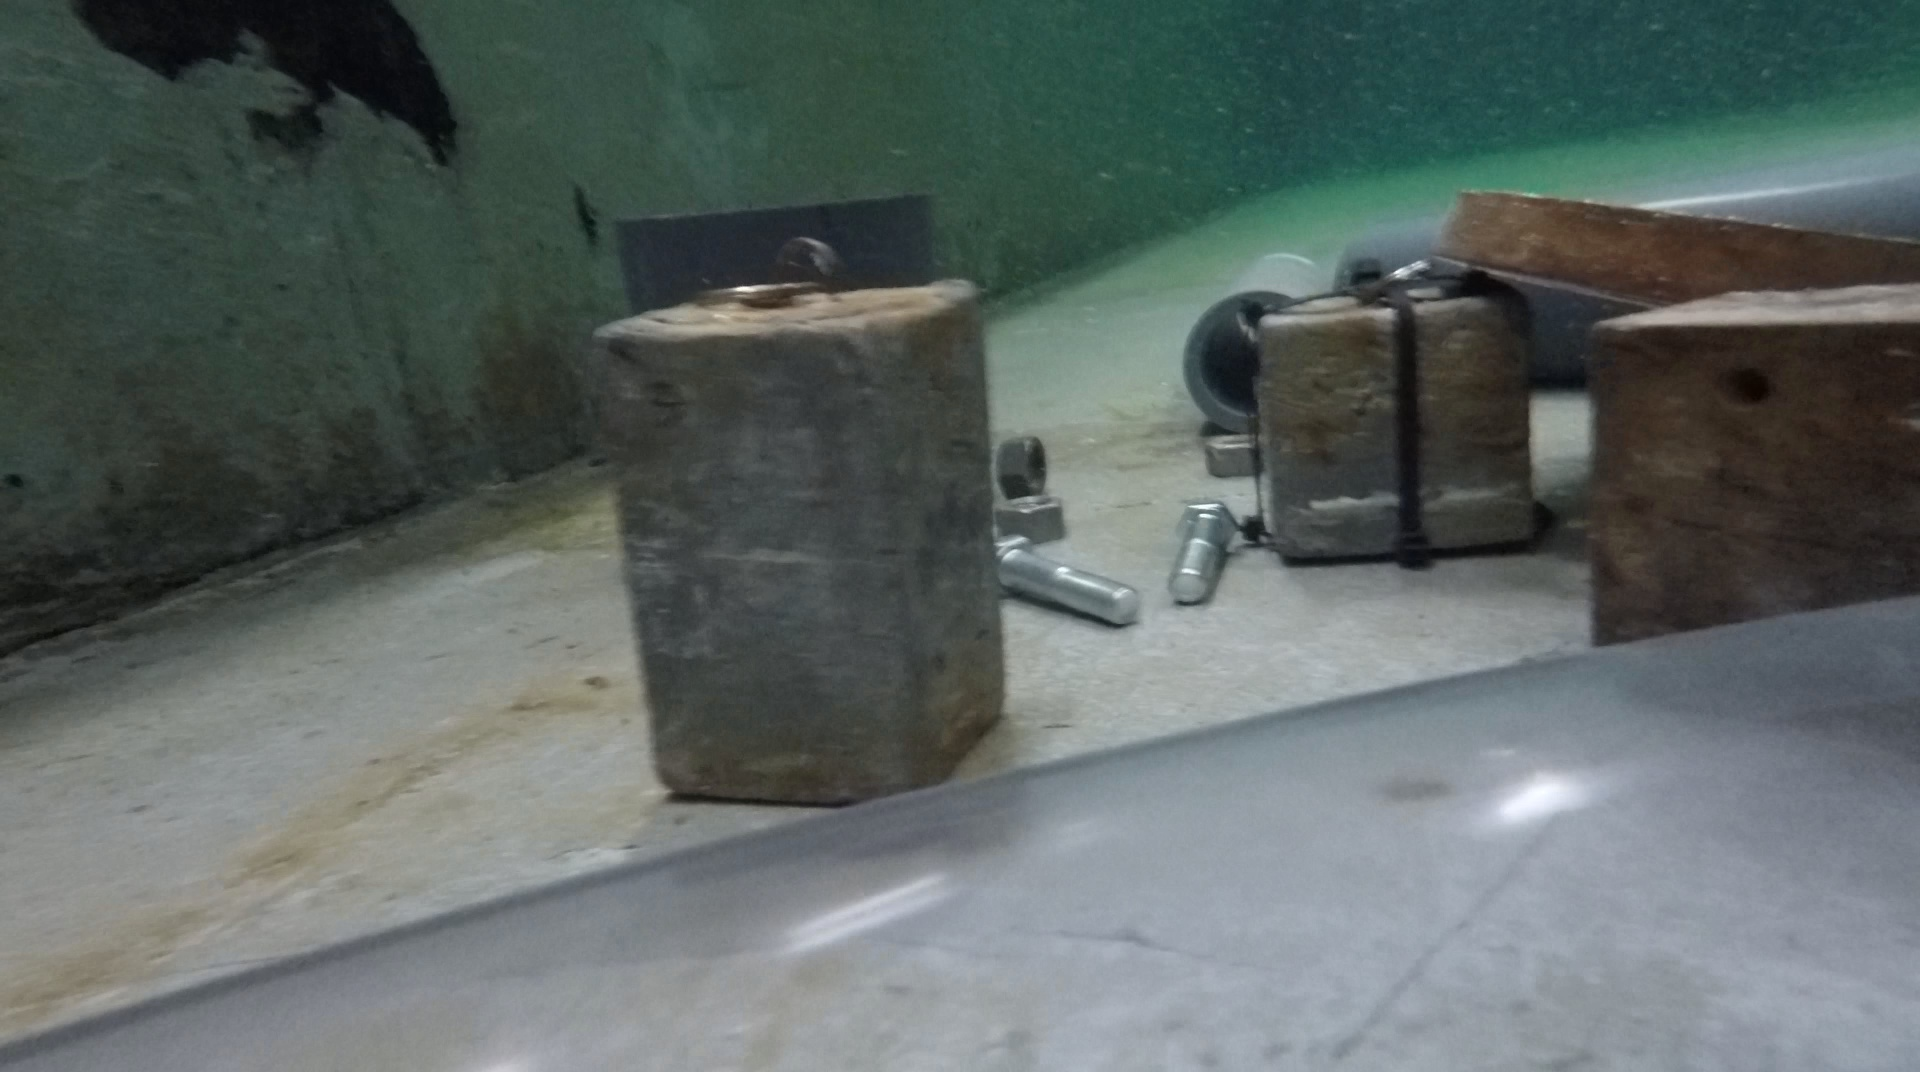bolt: (992, 535, 1143, 625), (1167, 493, 1240, 604)
flange: (1435, 186, 1920, 309)
led_block: (588, 233, 1007, 803), (1590, 283, 1920, 642), (1236, 257, 1560, 571)
nut: (997, 493, 1067, 542), (997, 432, 1047, 498), (1207, 431, 1255, 479)
pipe: (3, 589, 1920, 1068), (613, 189, 939, 319), (1182, 252, 1327, 432), (1331, 178, 1445, 285)
